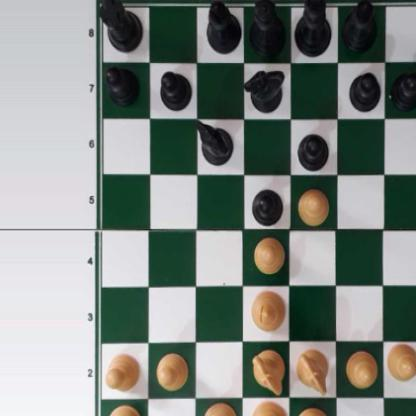black-bishop: (341, 0, 378, 53), (206, 0, 241, 53)
black-king: (296, 0, 332, 60)
black-knight: (246, 66, 283, 112), (196, 120, 233, 164)
black-pawn: (105, 65, 139, 107), (159, 68, 191, 110), (297, 131, 330, 171), (252, 187, 284, 225), (349, 72, 380, 111), (391, 69, 416, 109)
black-queen: (249, 0, 287, 55)
black-rook: (98, 0, 144, 54)
white-bishop: (251, 289, 286, 331), (202, 401, 236, 416)
white-king: (295, 403, 330, 416)
white-knight: (296, 348, 329, 393), (252, 351, 286, 394)
white-pawn: (103, 352, 141, 391), (155, 352, 189, 390), (344, 350, 377, 388), (296, 187, 330, 223), (253, 235, 285, 273), (386, 342, 416, 382)
white-queen: (251, 398, 286, 416)
white-rook: (99, 403, 143, 416)
